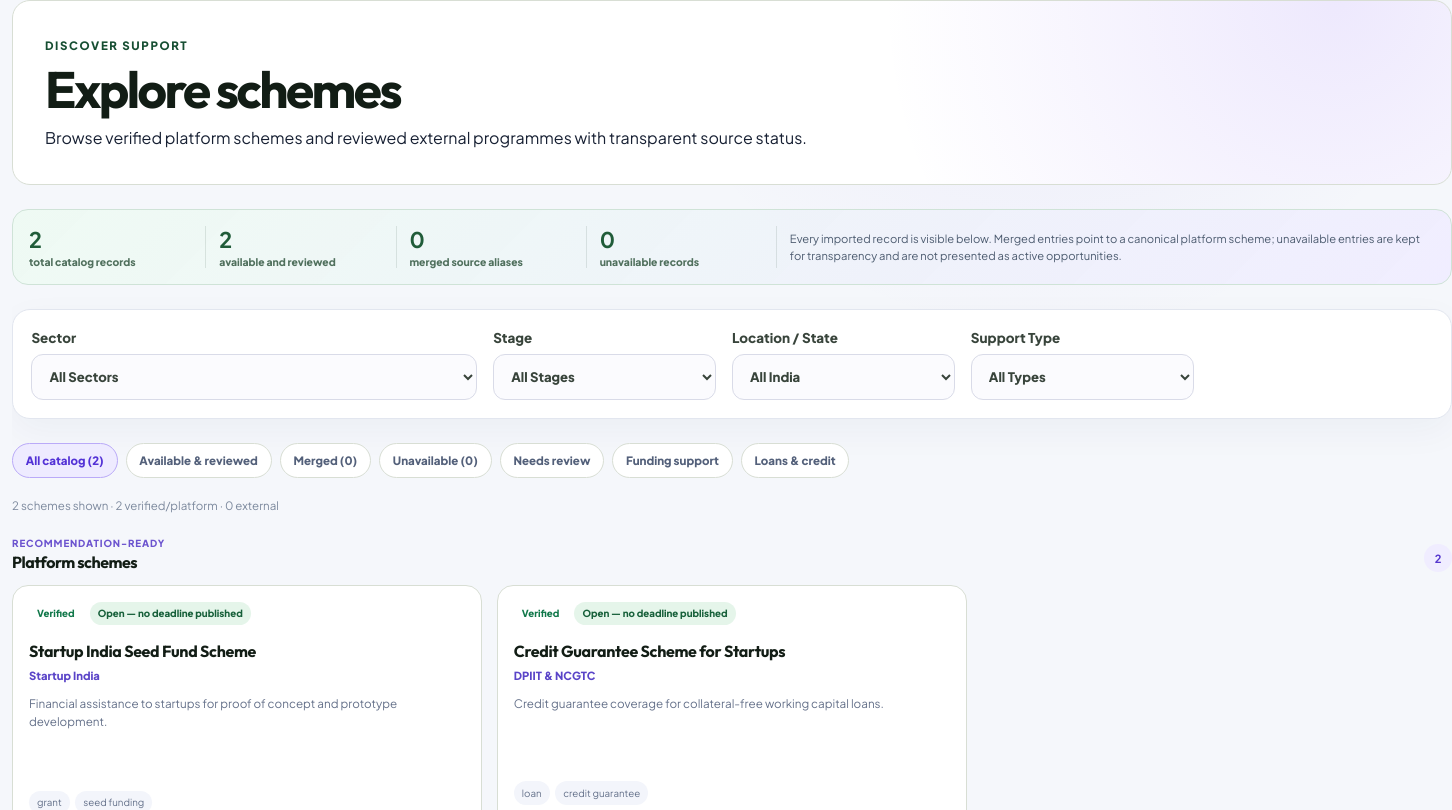
Test: SchemeExplorerPage component › filters schemes by stage and state
Step 1. Select "MVP" in the dropdown labelled "Stage" → (605, 377), box 493,354 -> 716,400
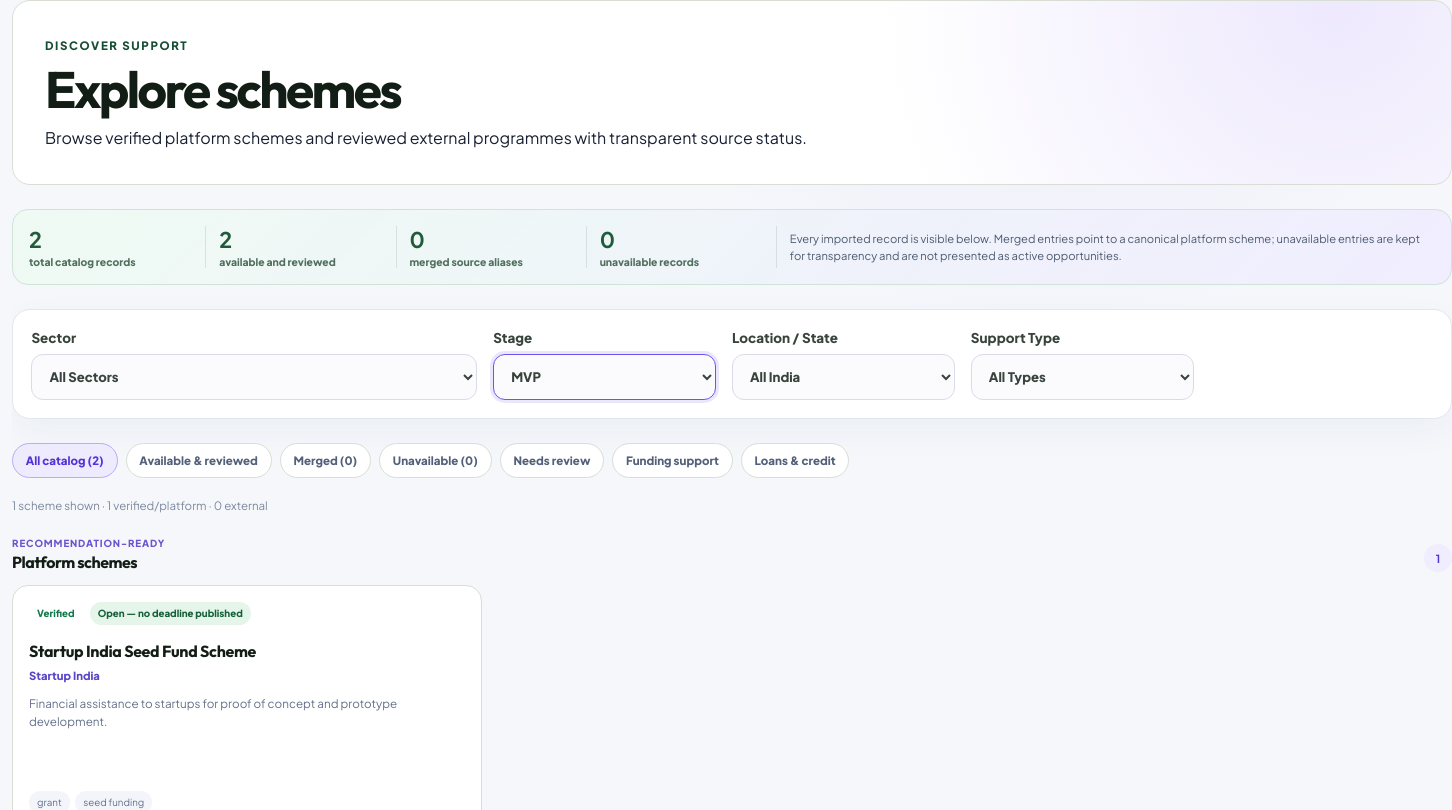
Expected: the heading "Startup India Seed Fund Scheme" is shown, 29,641 -> 256,662
Expected: the button "Credit Guarantee Scheme for Startups" is gone
Step 2. Select "All Stages" in the dropdown labelled "Stage" → (605, 377), box 493,354 -> 716,400
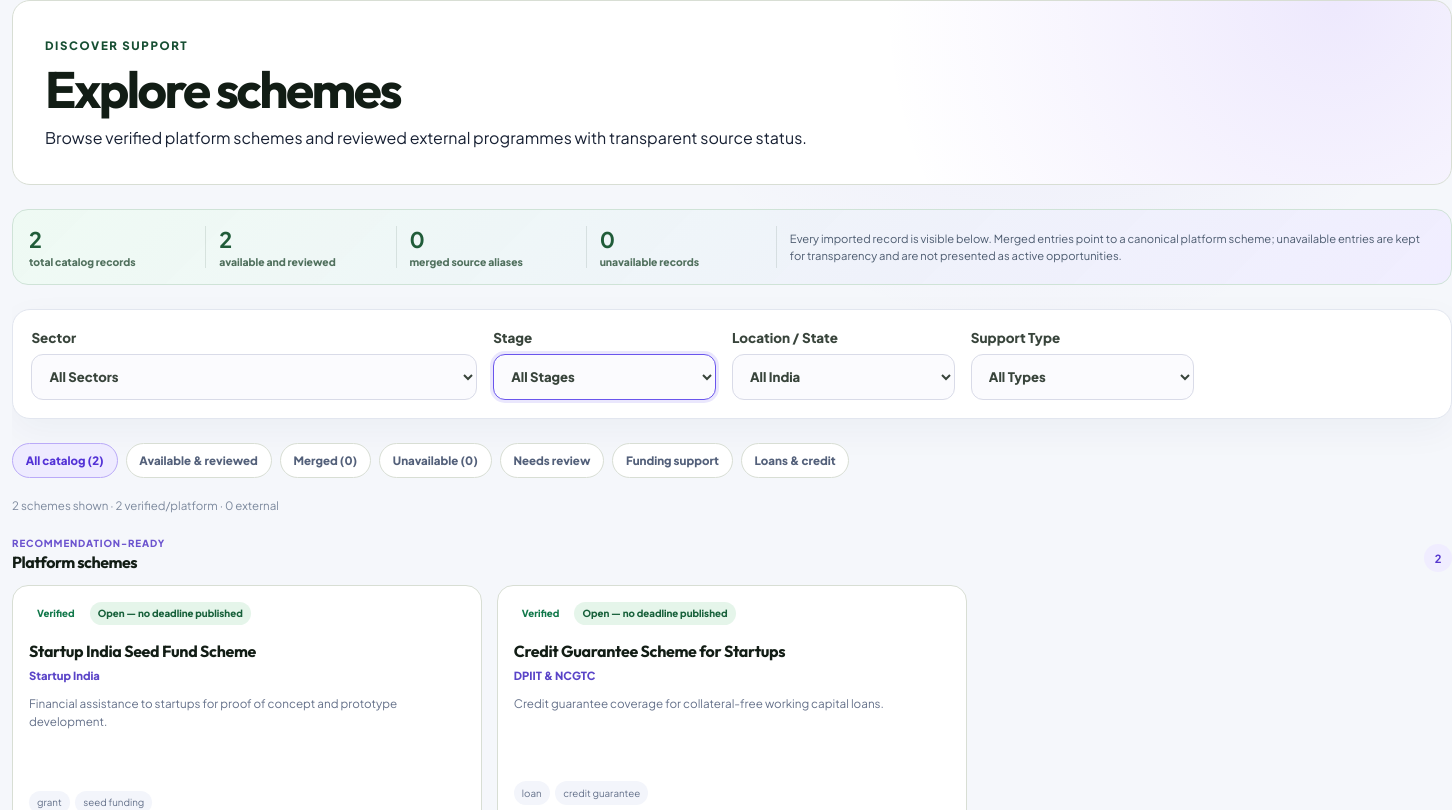
Step 3. Select "Delhi" in the dropdown labelled "Location / State" → (843, 377), box 732,354 -> 955,400
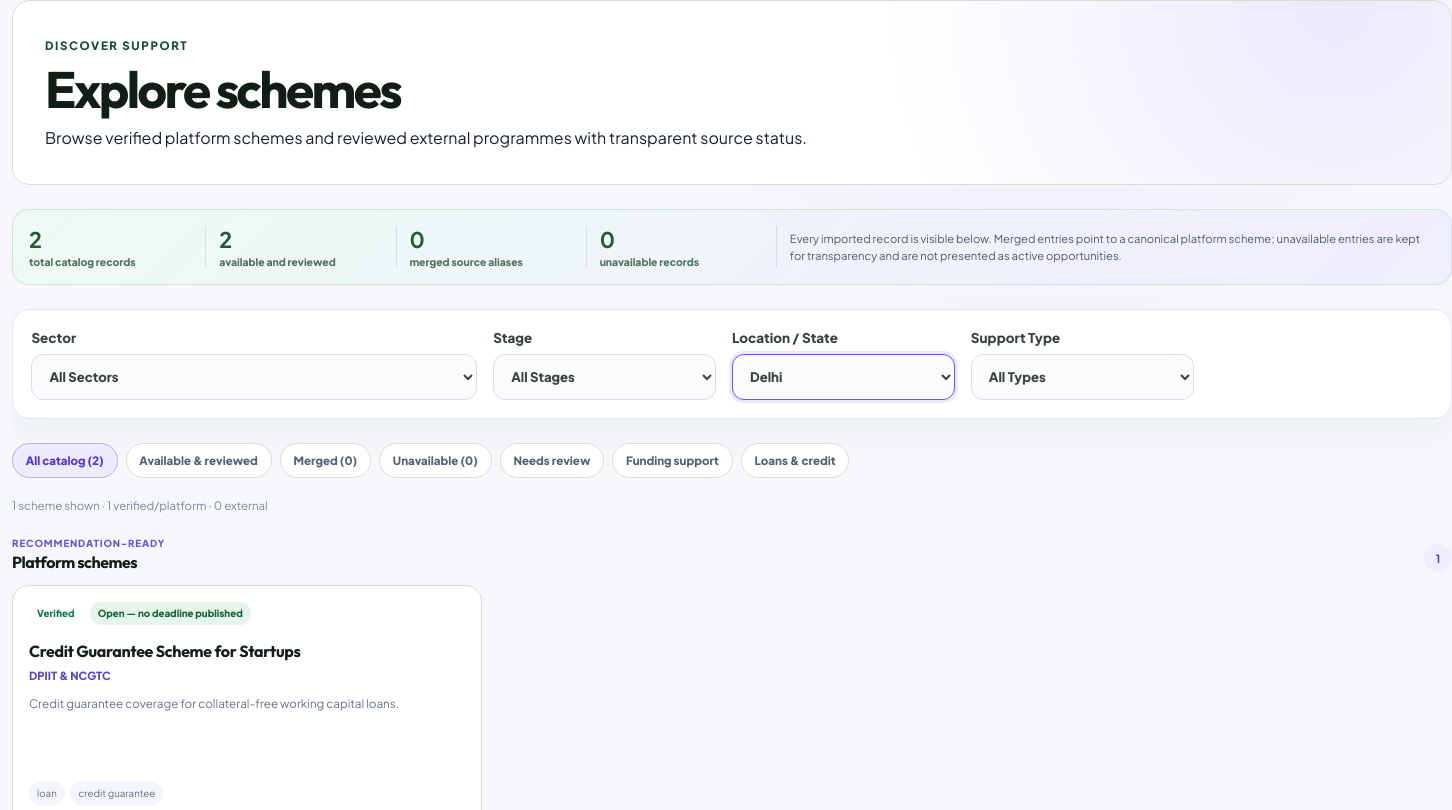
Expected: the heading "Credit Guarantee Scheme for Startups" is shown, 29,641 -> 300,662
Expected: the button "Startup India Seed Fund Scheme" is gone
